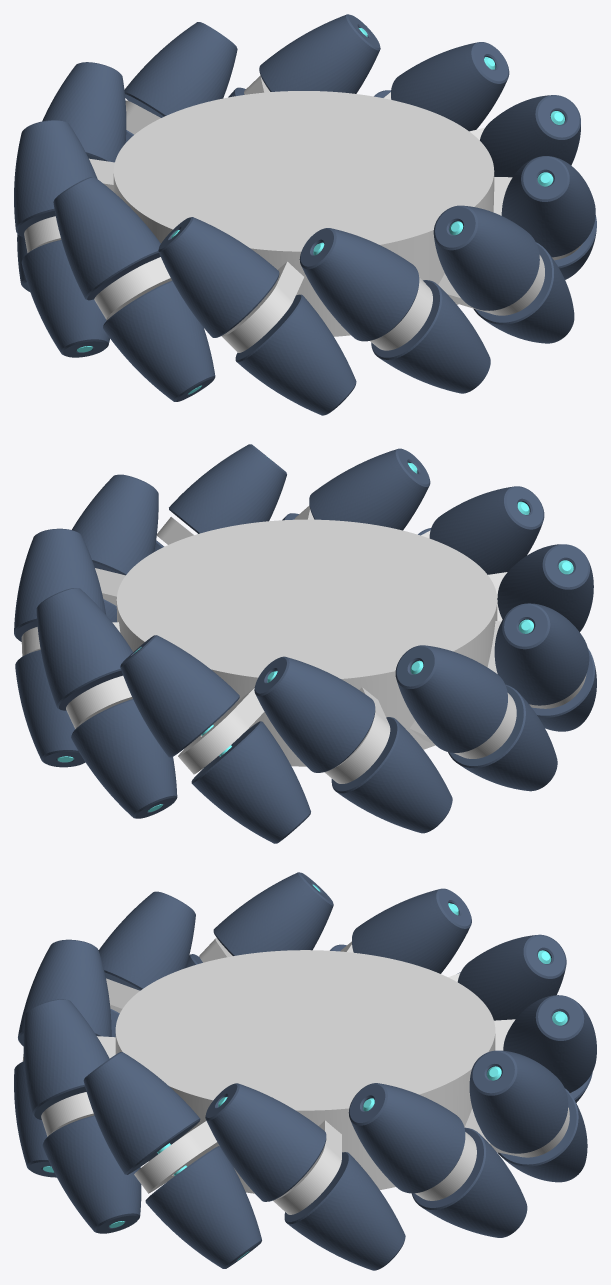
The picture shows the model from 3 angles, top to bottom: view 1: azimuth 30°, elevation 25°; view 2: azimuth 150°, elevation 25°; view 3: azimuth 270°, elevation 25°; orthographic projection.
Visible parts, largest first — view 1: out.hub, out.roller_007.roller, out.roller_006.roller, out.roller_008.roller, out.roller_009.roller, out.roller_005.roller, out.roller_010.roller, out.roller_003.roller, out.roller_001.roller, out.roller_002.roller, out.roller_004.roller, out.roller_000.roller; view 2: out.hub, out.roller_003.roller, out.roller_004.roller, out.roller_002.roller, out.roller_005.roller, out.roller_001.roller, out.roller_006.roller, out.roller_009.roller, out.roller_008.roller, out.roller_010.roller, out.roller_000.roller, out.roller_007.roller; view 3: out.hub, out.roller_000.roller, out.roller_010.roller, out.roller_001.roller, out.roller_009.roller, out.roller_002.roller, out.roller_008.roller, out.roller_007.roller, out.roller_005.roller, out.roller_006.roller, out.roller_004.roller, out.roller_003.roller.
Boxes of the visible parts, x1,y1,x2,y2 form: out.hub: (24,75,582,352); out.roller_007.roller: (158,217,356,415); out.roller_006.roller: (53,177,215,401); out.roller_008.roller: (299,228,490,393); out.roller_009.roller: (433,205,574,343); out.roller_005.roller: (14,120,109,357); out.roller_010.roller: (501,156,596,279); out.roller_003.roller: (124,22,237,142); out.roller_001.roller: (374,42,509,131); out.roller_002.roller: (228,14,380,97); out.roller_004.roller: (17,62,126,291); out.roller_000.roller: (480,95,580,177); out.hub: (21,505,586,783); out.roller_003.roller: (120,635,310,843); out.roller_004.roller: (254,656,452,833); out.roller_002.roller: (36,588,177,818); out.roller_005.roller: (395,645,557,791); out.roller_001.roller: (14,528,105,767); out.roller_006.roller: (494,603,596,731); out.roller_009.roller: (282,448,430,530); out.roller_008.roller: (418,486,544,574); out.roller_010.roller: (154,444,286,551); out.roller_000.roller: (72,474,158,622); out.roller_007.roller: (497,544,593,631); out.hub: (22,938,571,1214); out.roller_000.roller: (205,1083,405,1270); out.roller_010.roller: (83,1052,261,1268); out.roller_001.roller: (348,1083,527,1237); out.roller_009.roller: (23,999,141,1233); out.roller_002.roller: (469,1050,587,1182); out.roller_008.roller: (14,939,111,1177); out.roller_007.roller: (98,891,195,1037); out.roller_005.roller: (330,888,471,973); out.roller_006.roller: (186,872,333,967); out.roller_004.roller: (457,934,566,1020); out.roller_003.roller: (503,995,596,1102).
Bounding box in the file's own units: 0.0733 × 0.0253 × 0.0737.
